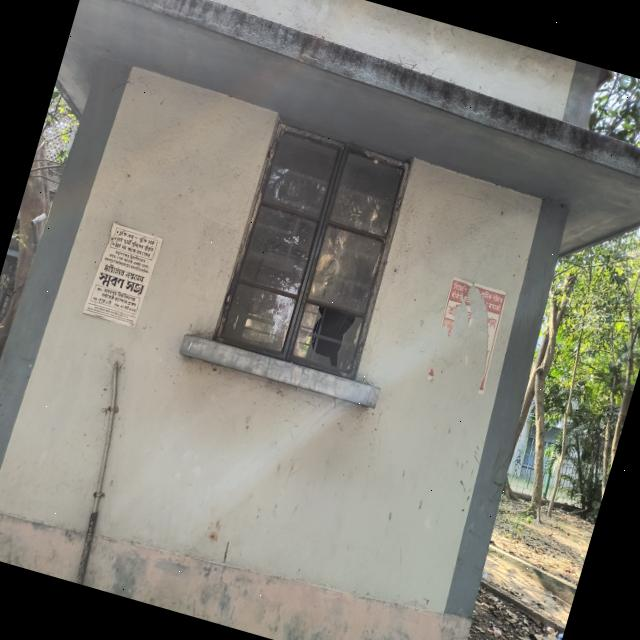Broken window pane: (215, 112, 415, 383)
